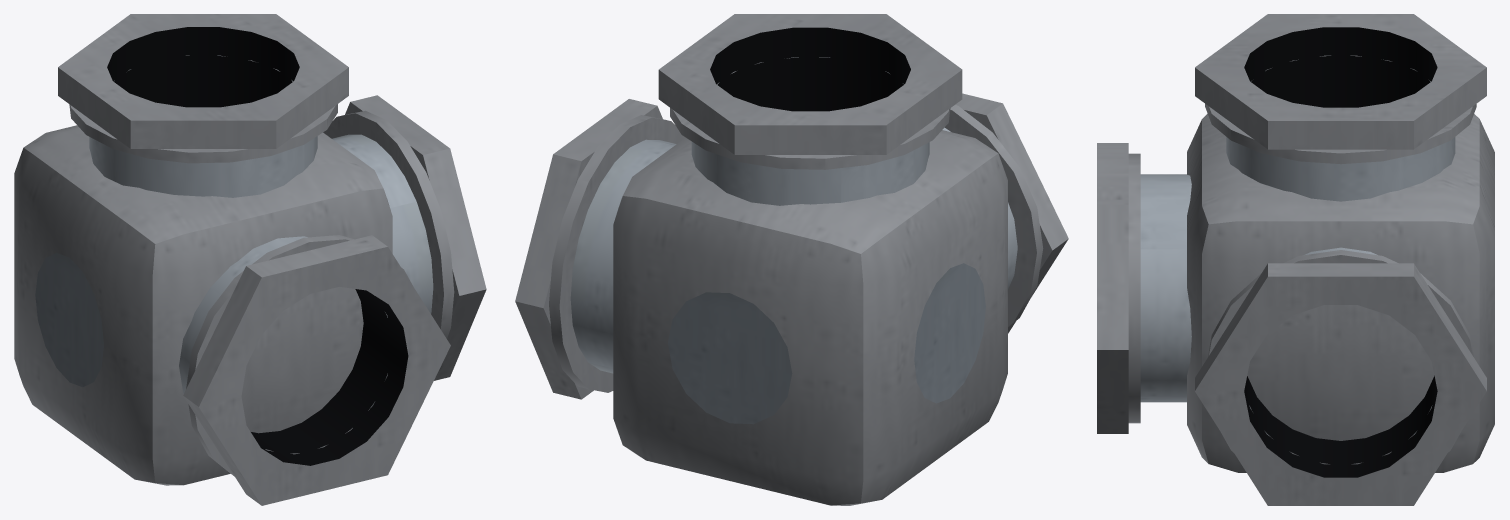
Rendered from small_pipe_corner.glb.
3 renders of one model, left to right at view 1: azimuth 30°, elevation 25°; view 2: azimuth 150°, elevation 25°; view 3: azimuth 270°, elevation 25°, orthographic. The views are drawn at different scales.
Parts seen in each view (by area): view 1: Body.003; view 2: Body.003; view 3: Body.003.
Boxes of the visible parts, x1,y1,x2,y2 form: Body.003: (14,14,486,505); Body.003: (515,14,1068,505); Body.003: (1097,14,1494,505).
Bounding box in the file's own units: 0.202 × 0.202 × 0.202.
4 materials, 3 textured.
